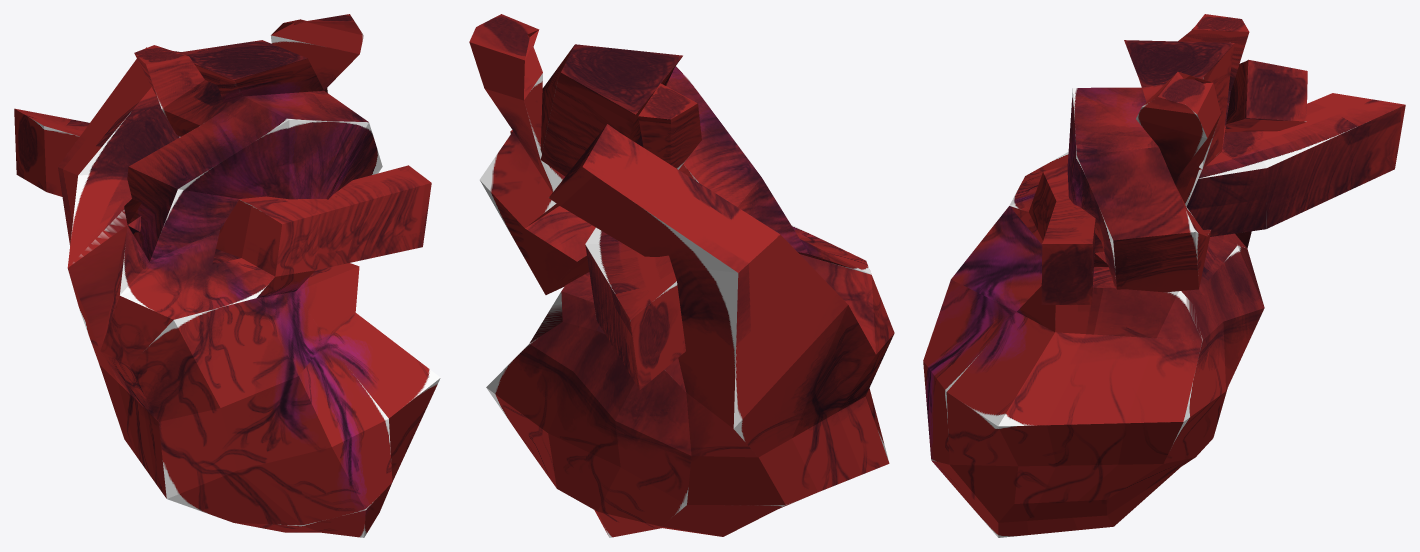
Rendered from heart.glb.
3 views of the same model, side by side, from view 1: azimuth 30°, elevation 25°; view 2: azimuth 150°, elevation 25°; view 3: azimuth 270°, elevation 25° (orthographic). The views are drawn at different scales.
Parts seen in each view (by area): view 1: Heart; view 2: Heart; view 3: Heart.
Boxes of the visible parts, box(x1,y1,x2,y2) form: Heart: box(14, 14, 440, 537); Heart: box(469, 14, 894, 537); Heart: box(923, 14, 1405, 537).
Bounding box in the file's own units: 2.65 × 3.65 × 3.33.
Materials: 1 (1 with a texture image).
